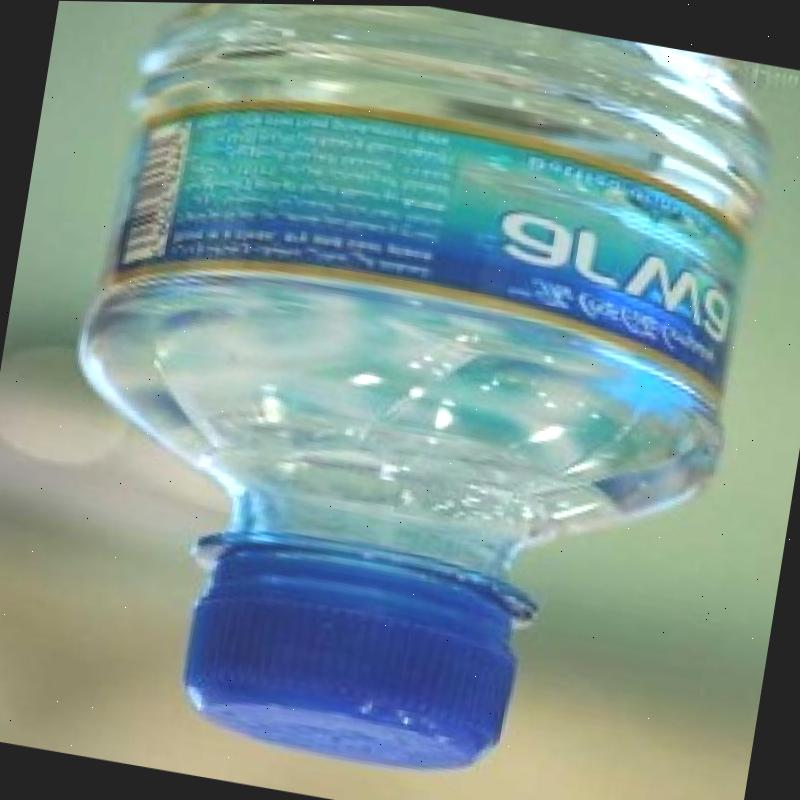botella: (13, 0, 780, 800)
